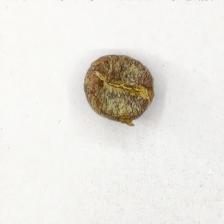NG: (85, 56, 154, 122)
